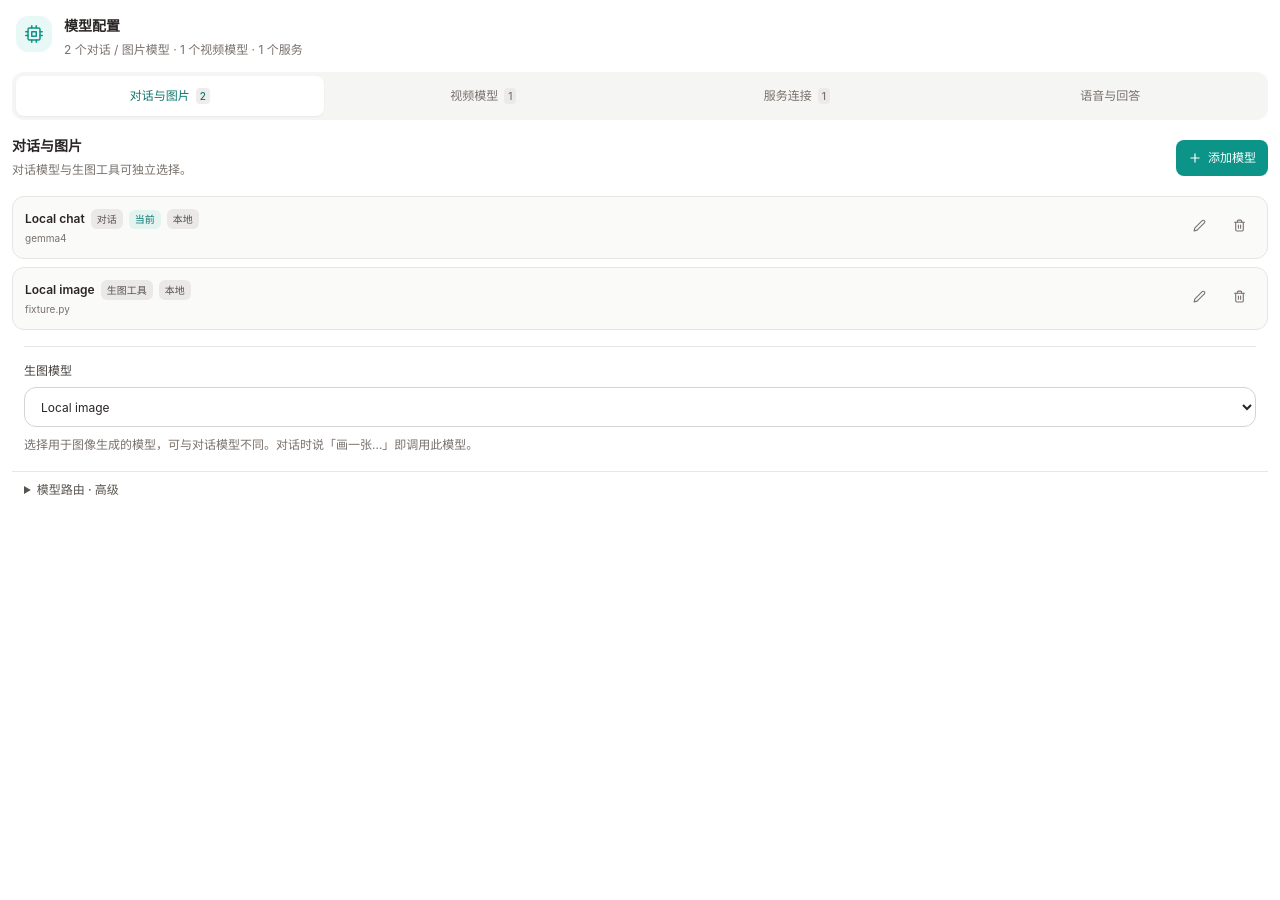
Test: unified model settings › starts with configured models and exposes one visible panel with category counts
expect the number of panels is 1: met, box x1=12 y1=136 x2=1268 y2=518
expect the text "2 个对话 / 图片模型 · 1 个视频模型 · 1 个服务" is shown: met, box x1=64 y1=42 x2=303 y2=57
Click the tab "视频模型 1" at [483, 96], box x1=330 y1=76 x2=637 y2=116
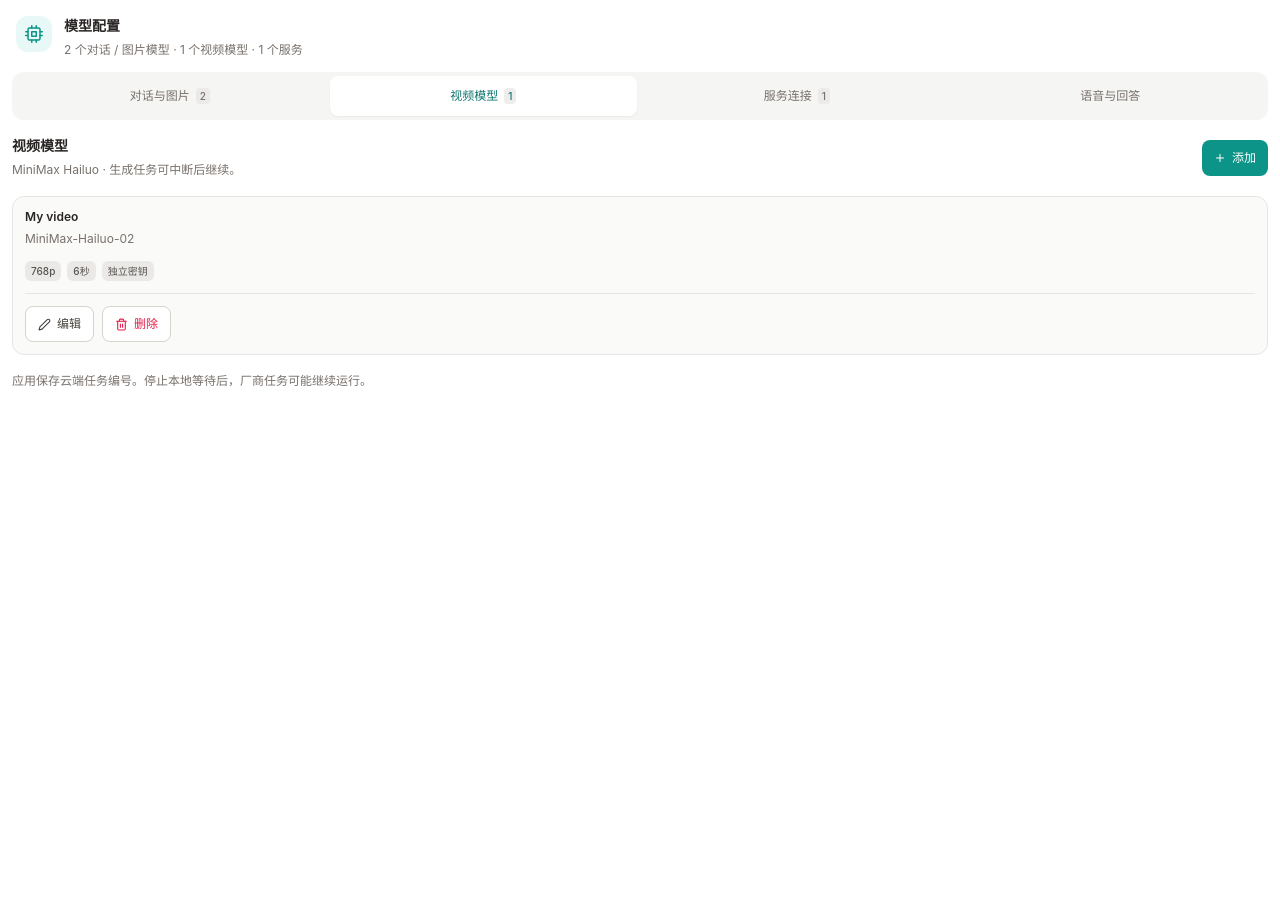
expect the text "My video" is shown: met, box x1=25 y1=209 x2=78 y2=224
Click the tab "服务连接 1" at [797, 96], box x1=643 y1=76 x2=950 y2=116
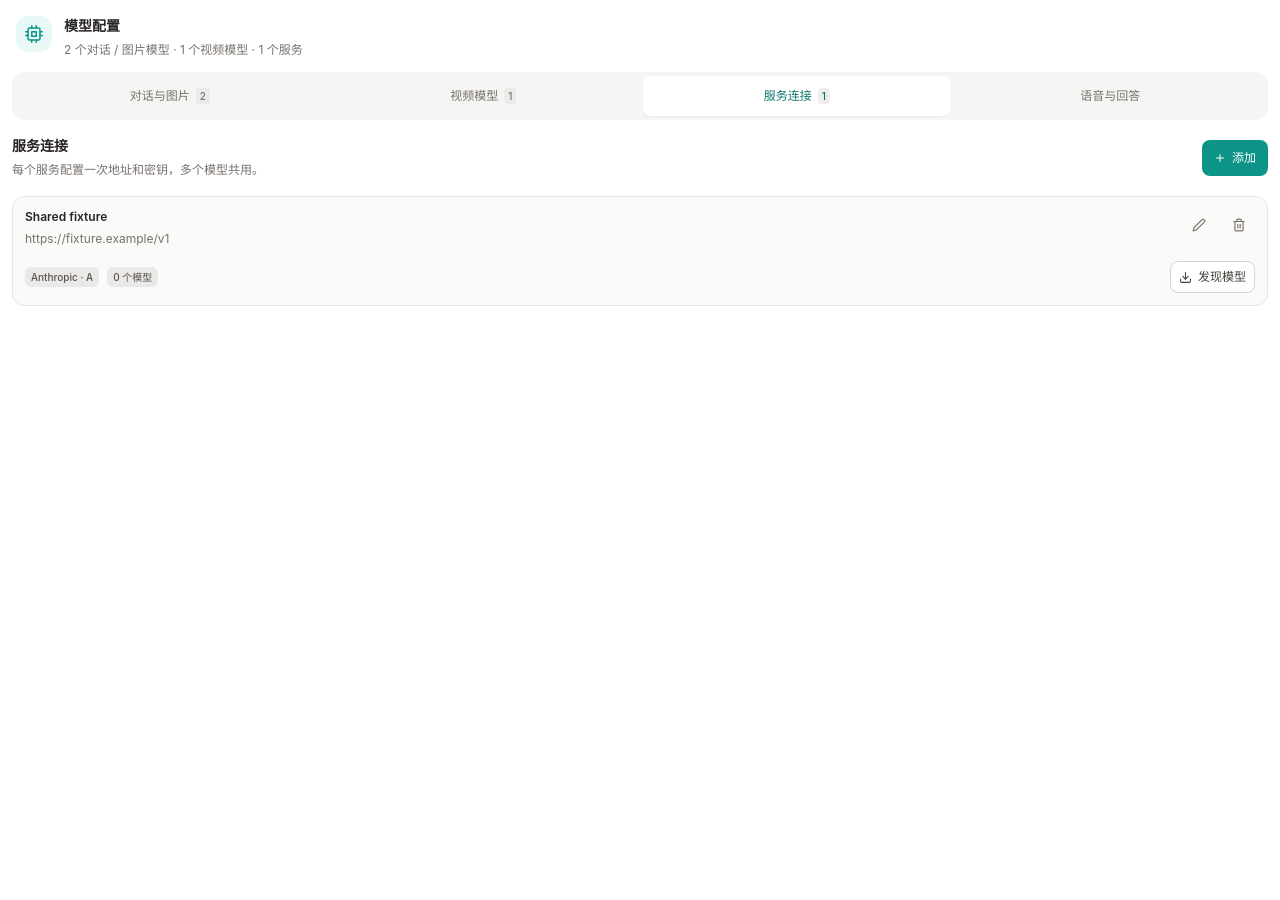
expect the text "Shared fixture" is shown: met, box x1=25 y1=209 x2=107 y2=224
Click the tab "语音与回答" at [1110, 96], box x1=956 y1=76 x2=1264 y2=116
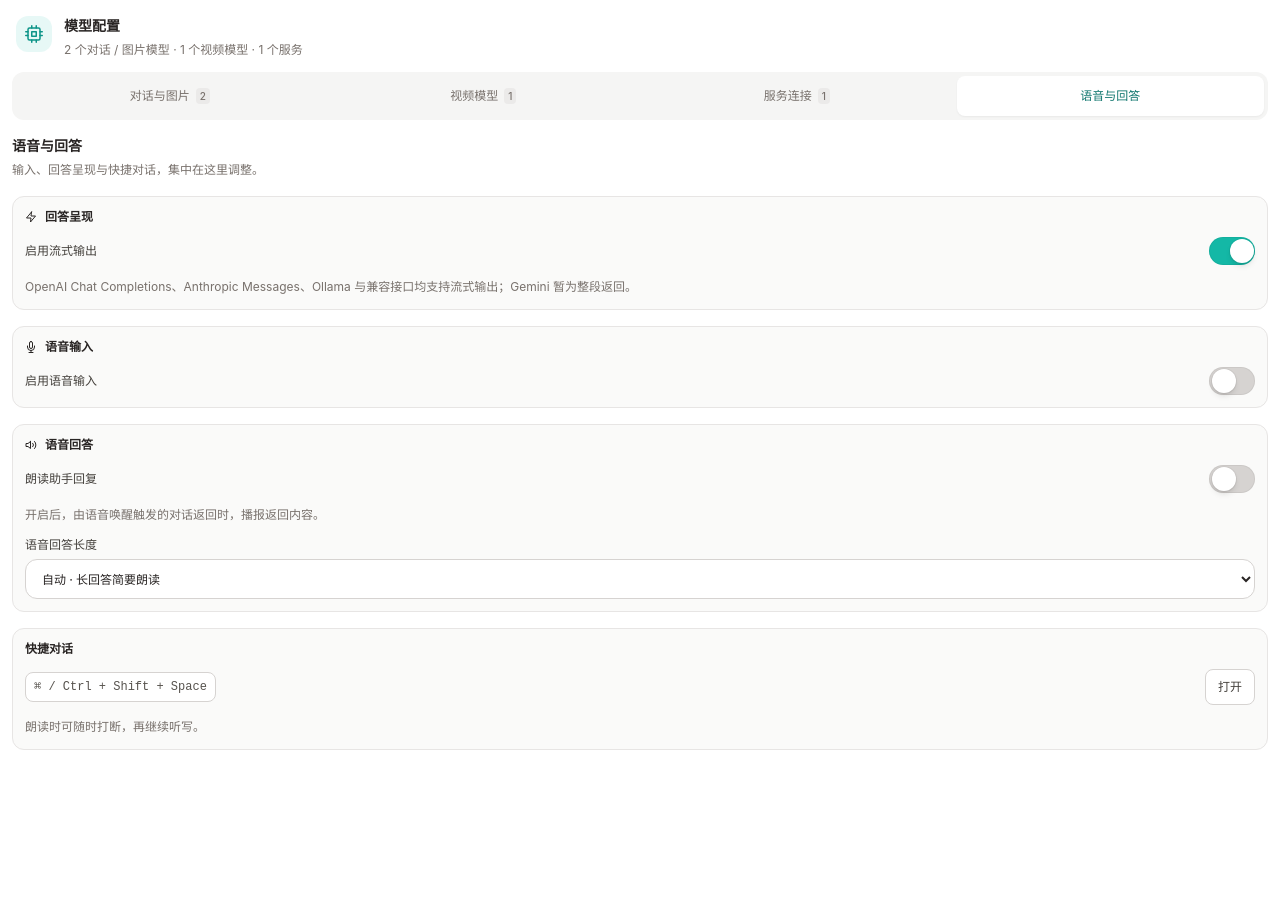
expect the switch named "启用流式输出" is shown: met, box x1=1209 y1=237 x2=1255 y2=265
